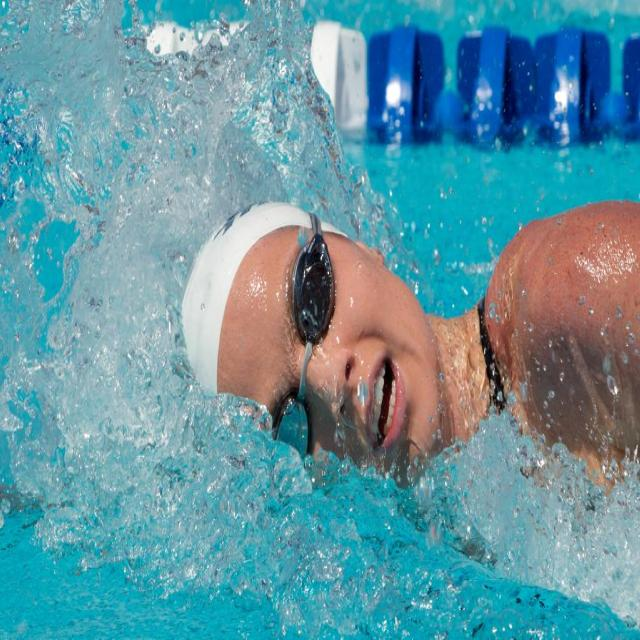nomask: (230, 237, 436, 497)
